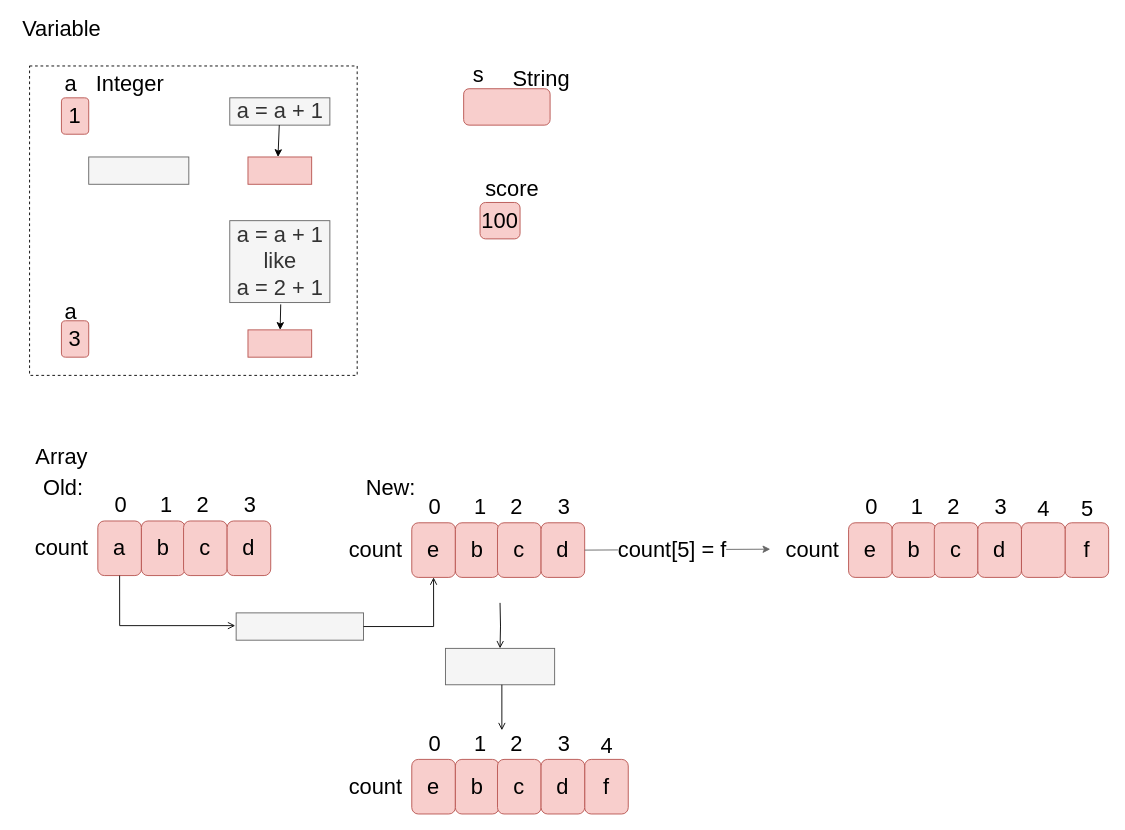
This 1125x830 diagram has some shape labels left out. The shapes that lost their labels are listed below. From the top down, each one's box as (x1, y1, x2, y2) in pixels, then its label:
(463, 88, 550, 125): 人们
(88, 156, 189, 184): a = 1.1 x
(247, 156, 312, 184): a = 2
(247, 329, 312, 357): a = 3
(235, 612, 364, 640): count[0] = e
(445, 647, 555, 685): count[4] =f
